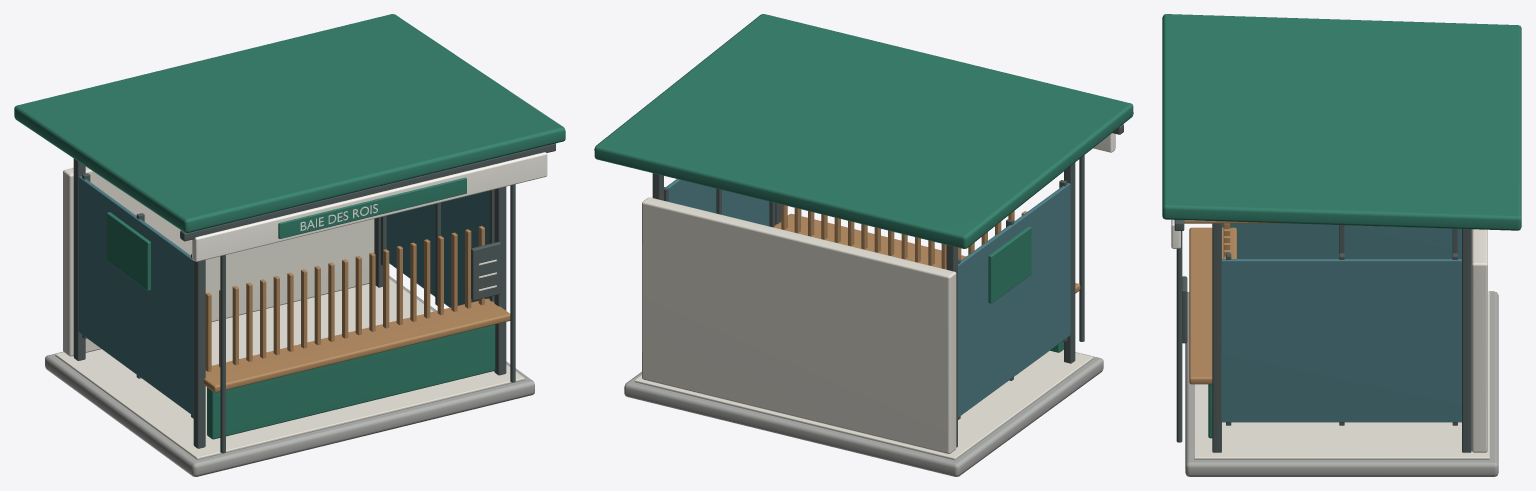
Rendered from kiosque_baie_des_rois_type_b.glb.
3 renders of one model, left to right at view 1: azimuth 30°, elevation 25°; view 2: azimuth 150°, elevation 25°; view 3: azimuth 270°, elevation 25°, orthographic. The views are drawn at different scales.
Parts seen in each view (by area): view 1: Auvent plat debordant, Vitrage lateral, Plancher, Comptoir facade, Mur fond, Socle beton, Plan de service, Bandeau facade, Vitrage lateral.001, Enseigne, Gouttiere, Poteau metal (+6 smaller); view 2: Auvent plat debordant, Mur fond, Vitrage lateral, Socle beton, Plancher, Vitrage lateral.001, Volet service lateral, Plan de service, Poteau metal, Descente pluviale, Poteau metal.001; view 3: Auvent plat debordant, Vitrage lateral.001, Plancher, Socle beton, Vitrage lateral, Plan de service, Mur fond, Poteau metal.002, Poteau metal.003, Descente pluviale.001, Panneau menu.
Part boxes in pixels (x1,y1,x2,y2): Auvent plat debordant: [14, 14, 565, 232]; Vitrage lateral: [78, 176, 193, 415]; Plancher: [55, 279, 524, 459]; Comptoir facade: [207, 324, 495, 439]; Mur fond: [63, 166, 374, 356]; Socle beton: [45, 276, 534, 476]; Plan de service: [203, 298, 510, 392]; Bandeau facade: [192, 152, 547, 261]; Vitrage lateral.001: [386, 190, 489, 307]; Enseigne: [278, 177, 466, 238]; Gouttiere: [180, 143, 555, 241]; Poteau metal: [193, 260, 205, 448]; Auvent plat debordant: [594, 14, 1133, 248]; Mur fond: [642, 197, 956, 453]; Vitrage lateral: [958, 183, 1070, 417]; Socle beton: [624, 352, 1103, 476]; Plancher: [634, 349, 1093, 460]; Vitrage lateral.001: [666, 179, 769, 226]; Volet service lateral: [988, 226, 1031, 303]; Plan de service: [773, 213, 1080, 293]; Poteau metal: [1064, 162, 1075, 363]; Descente pluviale: [1079, 155, 1084, 341]; Poteau metal.001: [946, 245, 957, 447]; Auvent plat debordant: [1162, 14, 1521, 230]; Vitrage lateral.001: [1222, 259, 1461, 422]; Plancher: [1194, 291, 1489, 459]; Socle beton: [1185, 291, 1498, 476]; Vitrage lateral: [1222, 223, 1461, 258]; Plan de service: [1189, 227, 1236, 384]; Mur fond: [1471, 229, 1487, 452]; Poteau metal.002: [1212, 223, 1221, 452]; Poteau metal.003: [1462, 229, 1471, 452]; Descente pluviale.001: [1176, 231, 1182, 442]; Panneau menu: [1182, 276, 1187, 343].
Bounding box in the file's own units: 5.58 × 3.79 × 4.38.
